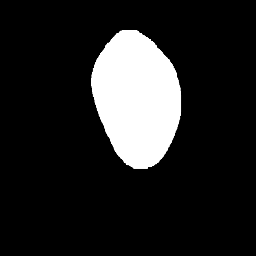mass: (89, 29, 181, 168)
